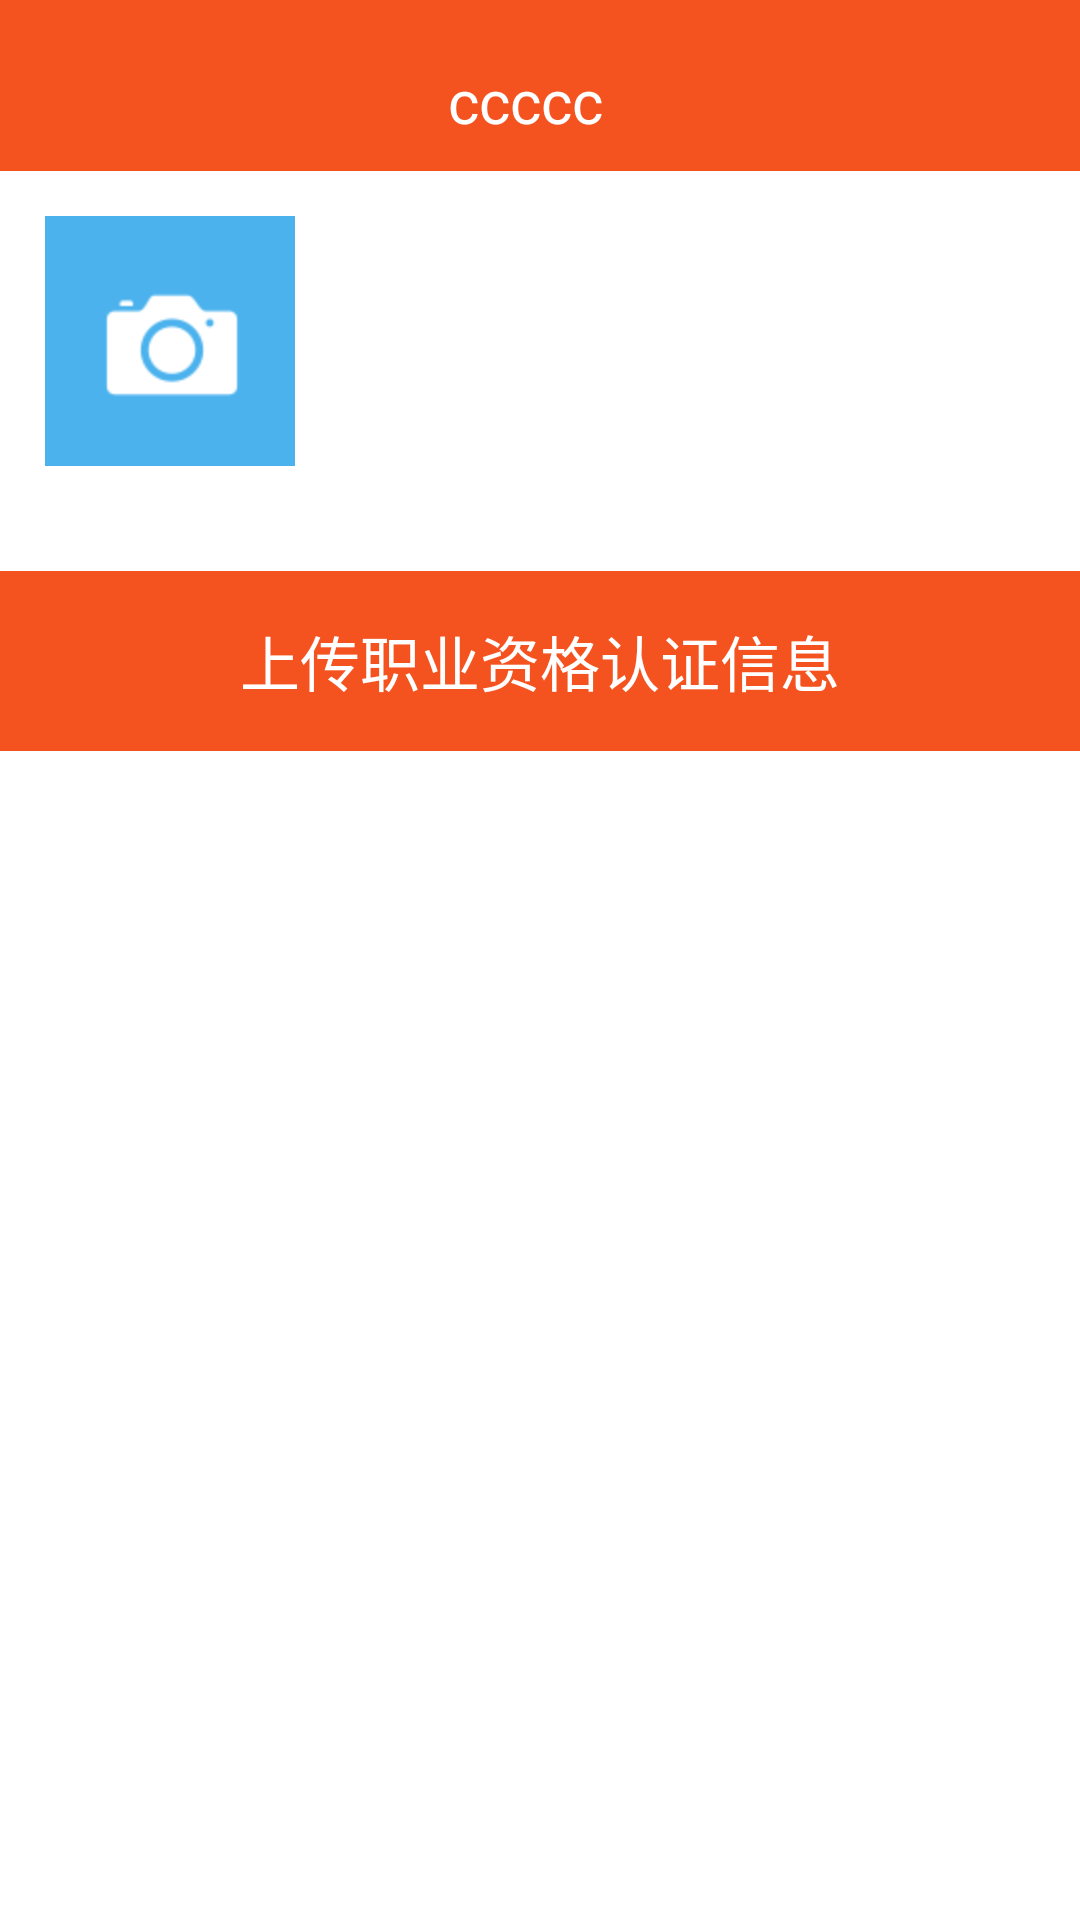

Icons on this 1080px×1920px Android screen, each with its box as (x1, y1, x2, y2):
camera: (45, 216, 295, 466)
